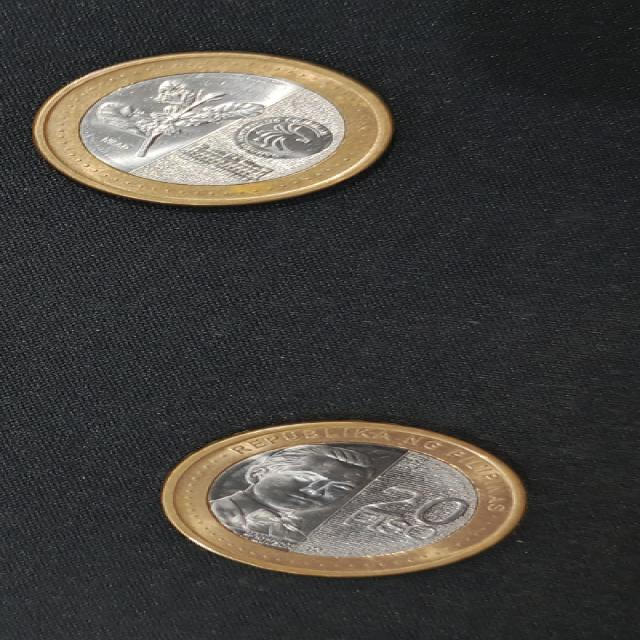20_peso: (163, 421, 525, 576), (34, 53, 392, 205)
